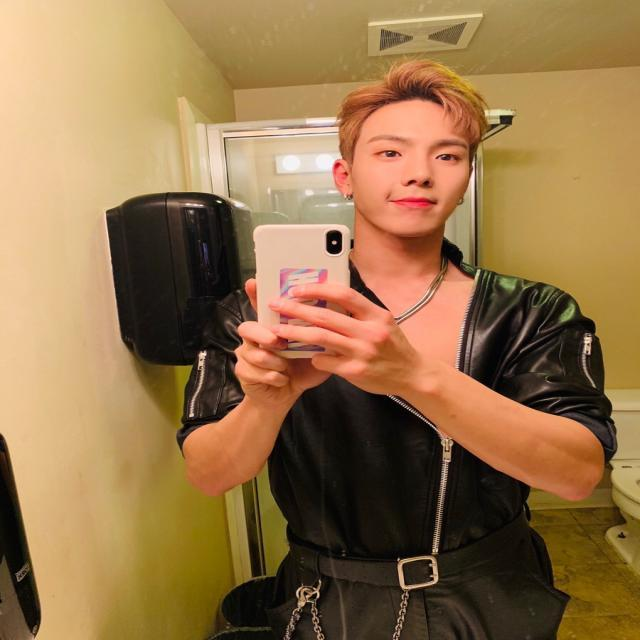phone: (254, 224, 350, 359)
